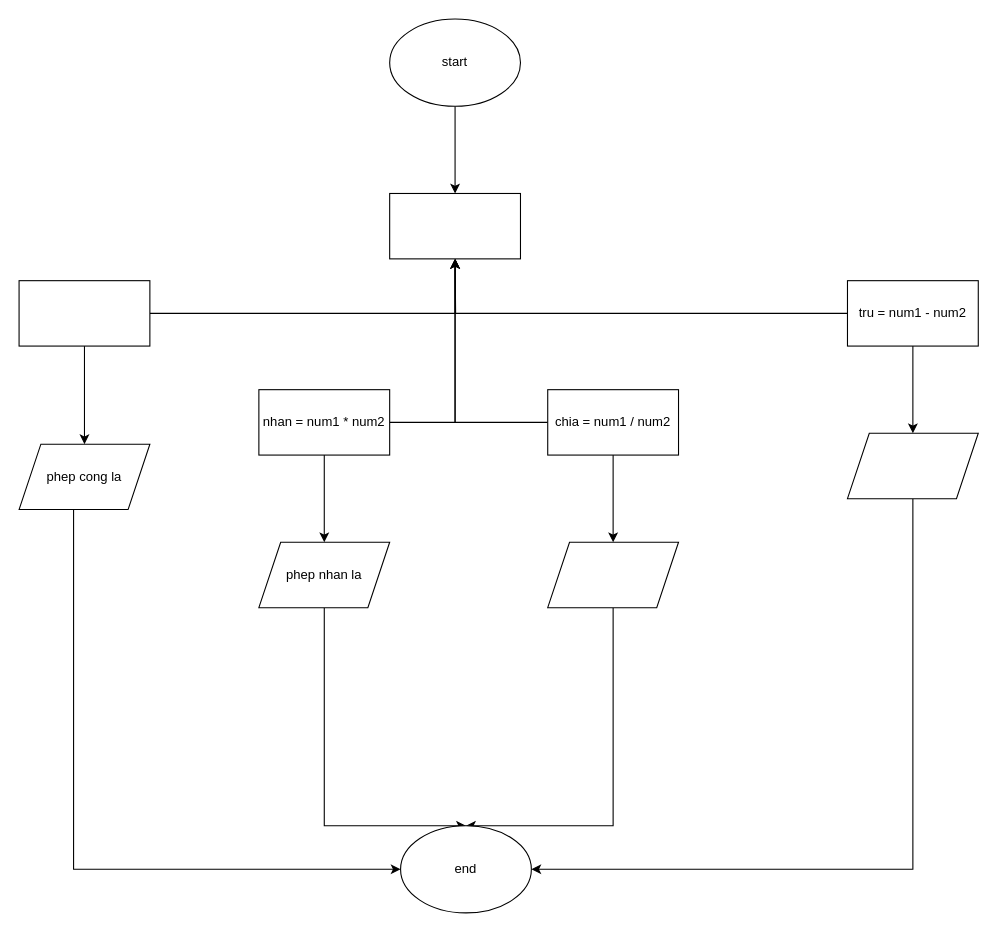
Image size: 997x932. Some labels were removed from this diagram. Each missing label, with the centre of its shape:
"cong = num1 + num2" goes at (x=84, y=313).
"num1,num2 cong,tru,nhan,chia" goes at (x=454, y=225).
"phep chia la" goes at (x=613, y=574).
"phep tru la" goes at (x=912, y=465).
